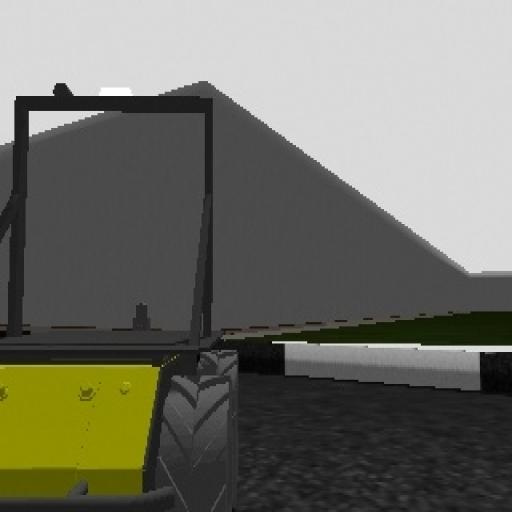huskya200: (0, 49, 282, 512)
